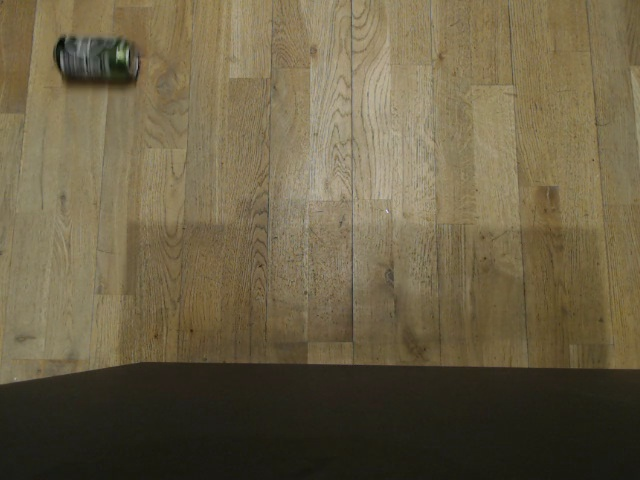beer: (46, 33, 143, 87)
